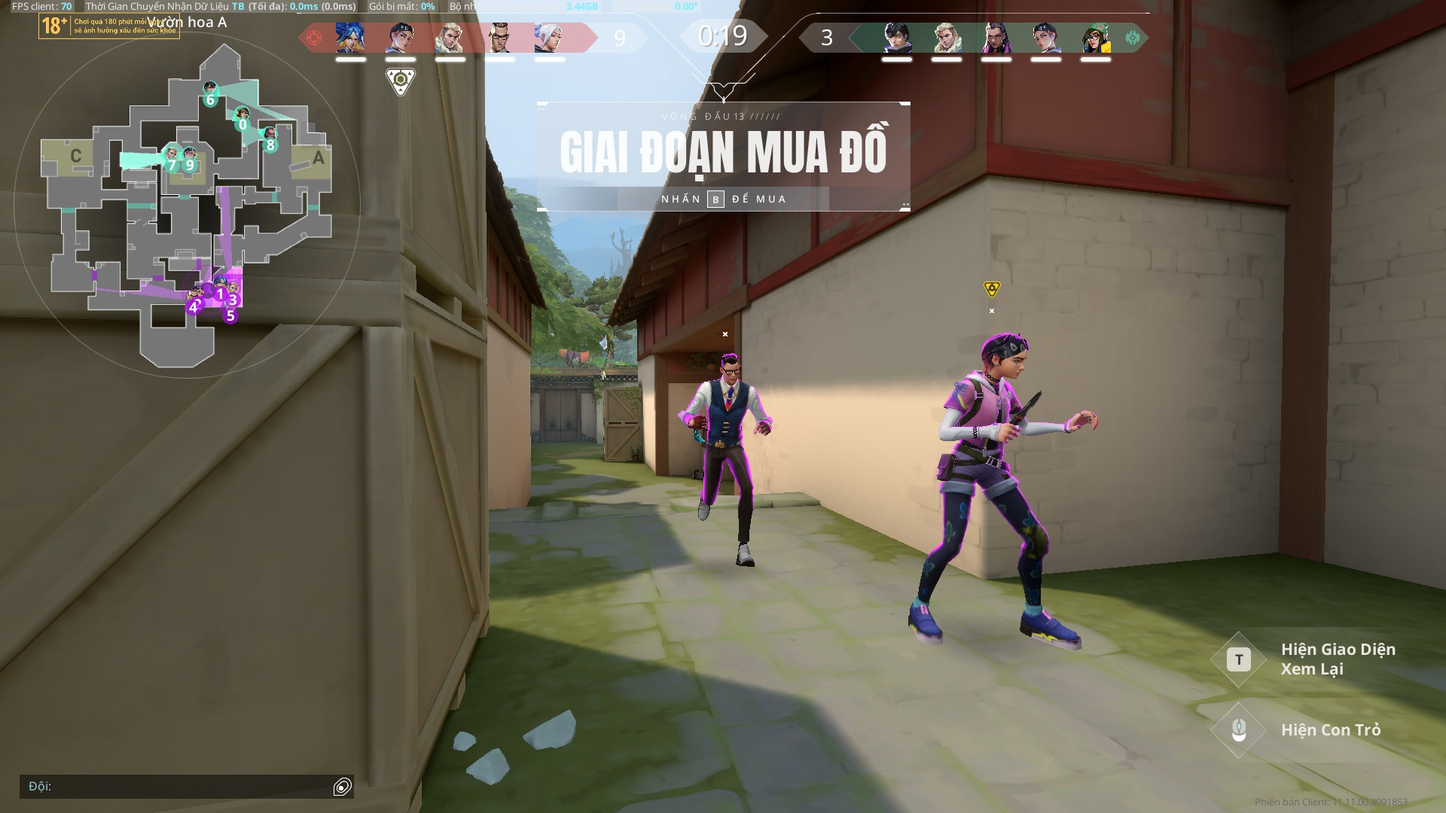body: (943, 368, 1023, 453), (699, 376, 758, 444)
head: (979, 327, 1025, 377), (718, 353, 743, 385)
